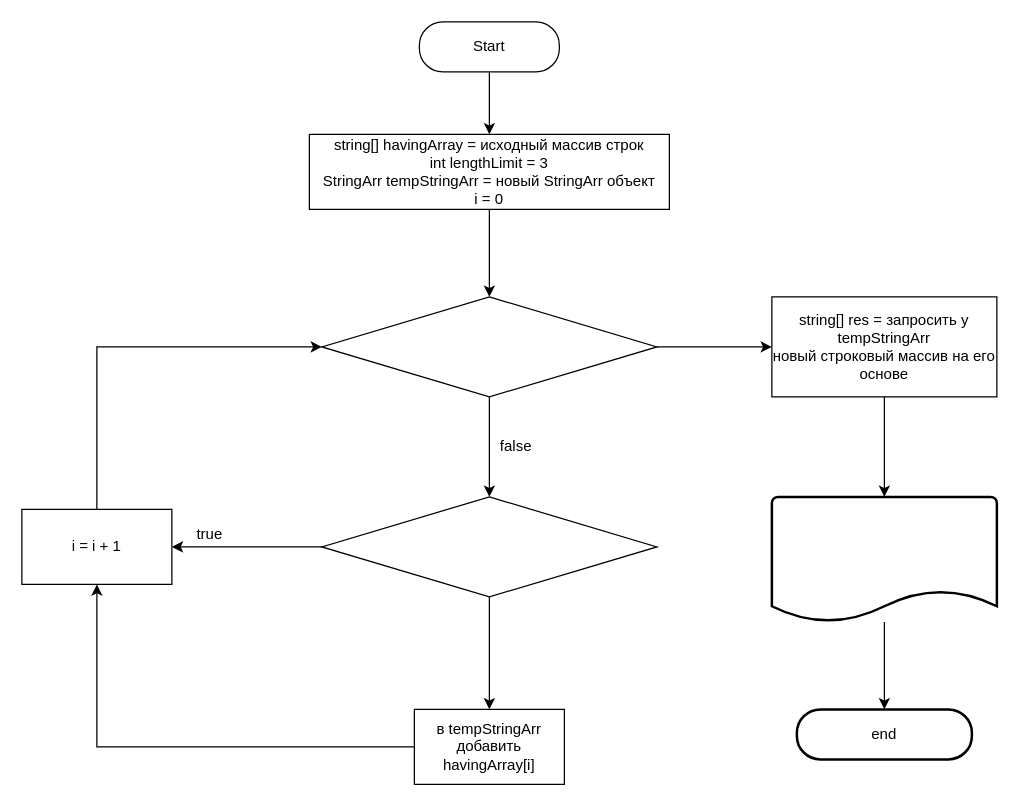
Some shapes in this 1020 by 806 pixel diagram are drawn without their labels. Each missing label, with the box of its shape:
havingArray[i].Length > lengthLimit: (321, 496, 657, 597)
i == длинна havingArray: (321, 296, 657, 397)
Вывести в консоль: havingArray пустая строка res: (770, 495, 998, 622)
